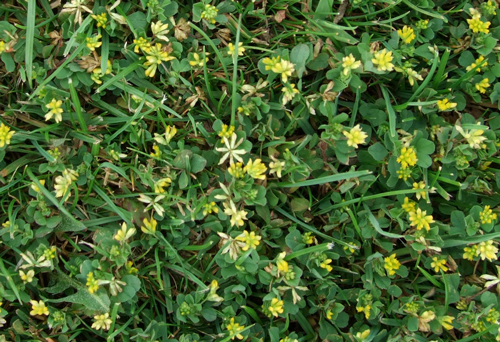clover: (6, 6, 496, 340)
